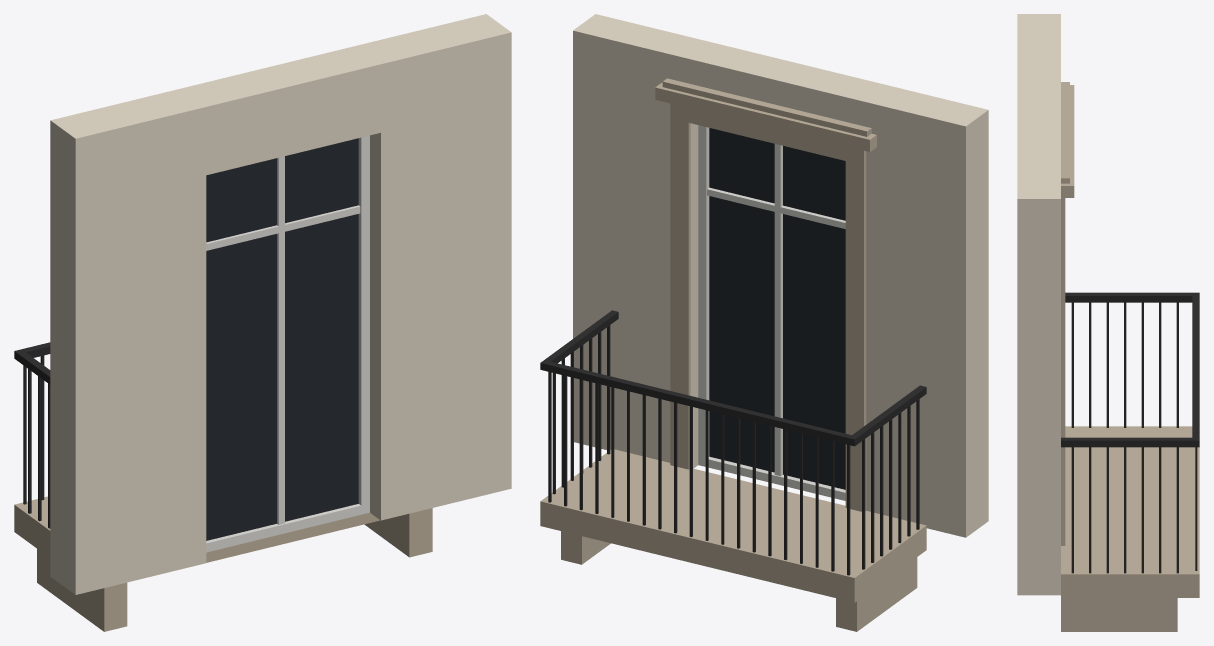
File: SM_VB_FacA_Balcony.fbx
3 renders of one model, left to right at view 1: azimuth 30°, elevation 25°; view 2: azimuth 150°, elevation 25°; view 3: azimuth 270°, elevation 25°, orthographic. The views are drawn at different scales.
Visible parts, largest first — view 1: SM_VB_FacA_Balcony; view 2: SM_VB_FacA_Balcony; view 3: SM_VB_FacA_Balcony.
Part boxes in pixels (x1,y1,x2,y2): SM_VB_FacA_Balcony: (14, 14, 511, 631); SM_VB_FacA_Balcony: (540, 14, 988, 631); SM_VB_FacA_Balcony: (1017, 14, 1199, 631).
Size of the model in its own units: 3 by 3.45 by 1.25.
